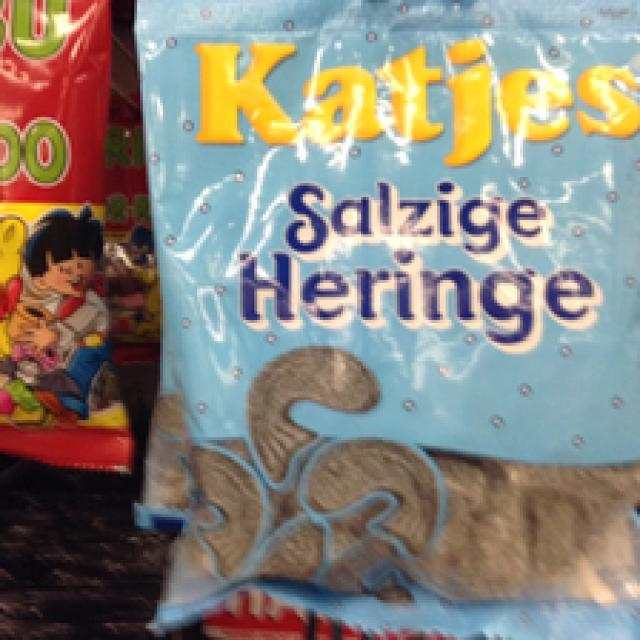groceries: (132, 0, 637, 629)
